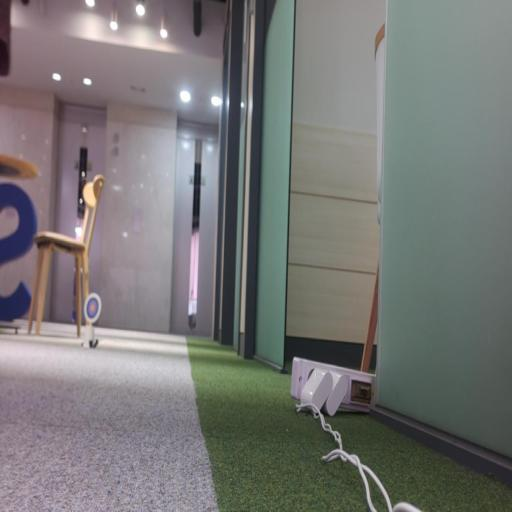target: (84, 293, 101, 324)
